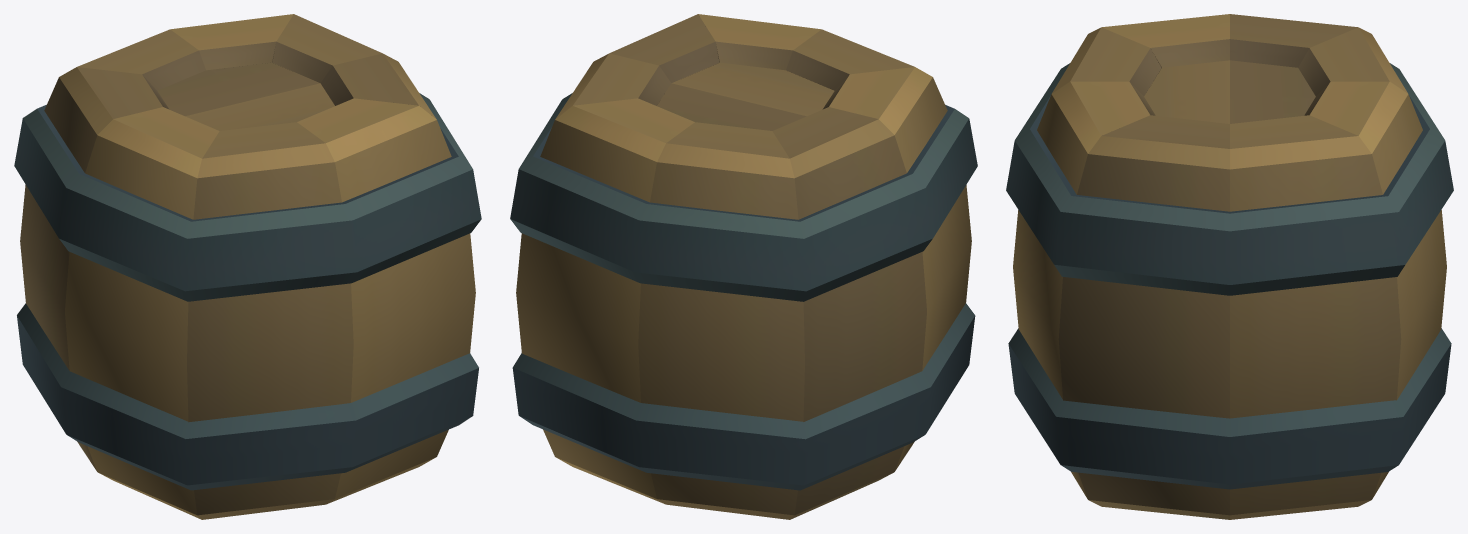
Rendered from barrel_2_destructible.fbx.
The picture shows the model from 3 angles, left to right: view 1: azimuth 30°, elevation 25°; view 2: azimuth 150°, elevation 25°; view 3: azimuth 270°, elevation 25°; orthographic projection. The views are drawn at different scales.
Parts seen in each view (by area): view 1: barrel_2_ring1, barrel_2_part8, barrel_2_ring2, barrel_2_part7, barrel_2_part3, barrel_2_part2, barrel_2_lid, barrel_2_part1, barrel_2_part4, barrel_2_part6, barrel_2_part5; view 2: barrel_2_ring1, barrel_2_part4, barrel_2_ring2, barrel_2_part1, barrel_2_part2, barrel_2_part3, barrel_2_lid, barrel_2_part7, barrel_2_part8, barrel_2_part5, barrel_2_part6; view 3: barrel_2_ring1, barrel_2_part5, barrel_2_part6, barrel_2_ring2, barrel_2_part1, barrel_2_part7, barrel_2_lid, barrel_2_part3, barrel_2_part2, barrel_2_part4, barrel_2_part8.
Part boxes in pixels (bbox=[...]): barrel_2_ring1: bbox=[14, 93, 481, 301]; barrel_2_part8: bbox=[187, 122, 353, 519]; barrel_2_ring2: bbox=[17, 303, 478, 490]; barrel_2_part7: bbox=[297, 98, 475, 503]; barrel_2_part3: bbox=[65, 107, 219, 519]; barrel_2_part2: bbox=[20, 67, 169, 470]; barrel_2_lid: bbox=[157, 62, 334, 130]; barrel_2_part1: bbox=[170, 14, 293, 70]; barrel_2_part4: bbox=[77, 29, 205, 90]; barrel_2_part6: bbox=[272, 14, 382, 82]; barrel_2_part5: bbox=[320, 53, 436, 119]; barrel_2_ring1: bbox=[510, 93, 977, 301]; barrel_2_part4: bbox=[638, 122, 804, 519]; barrel_2_ring2: bbox=[512, 303, 975, 490]; barrel_2_part1: bbox=[516, 98, 694, 503]; barrel_2_part2: bbox=[772, 107, 926, 519]; barrel_2_part3: bbox=[822, 67, 971, 470]; barrel_2_lid: bbox=[657, 62, 834, 130]; barrel_2_part7: bbox=[698, 14, 821, 70]; barrel_2_part8: bbox=[786, 29, 914, 90]; barrel_2_part5: bbox=[609, 14, 719, 82]; barrel_2_part6: bbox=[555, 53, 671, 119]; barrel_2_ring1: bbox=[1006, 63, 1453, 295]; barrel_2_part5: bbox=[1058, 115, 1229, 519]; barrel_2_part6: bbox=[1230, 115, 1401, 519]; barrel_2_ring2: bbox=[1008, 328, 1451, 489]; barrel_2_part1: bbox=[1304, 81, 1446, 498]; barrel_2_part7: bbox=[1013, 81, 1155, 498]; barrel_2_lid: bbox=[1144, 60, 1315, 123]; barrel_2_part3: bbox=[1102, 14, 1229, 67]; barrel_2_part2: bbox=[1230, 14, 1357, 67]; barrel_2_part4: bbox=[1298, 27, 1407, 95]; barrel_2_part8: bbox=[1052, 27, 1161, 95].
Bounding box in the file's own units: 110 × 100 × 110.
